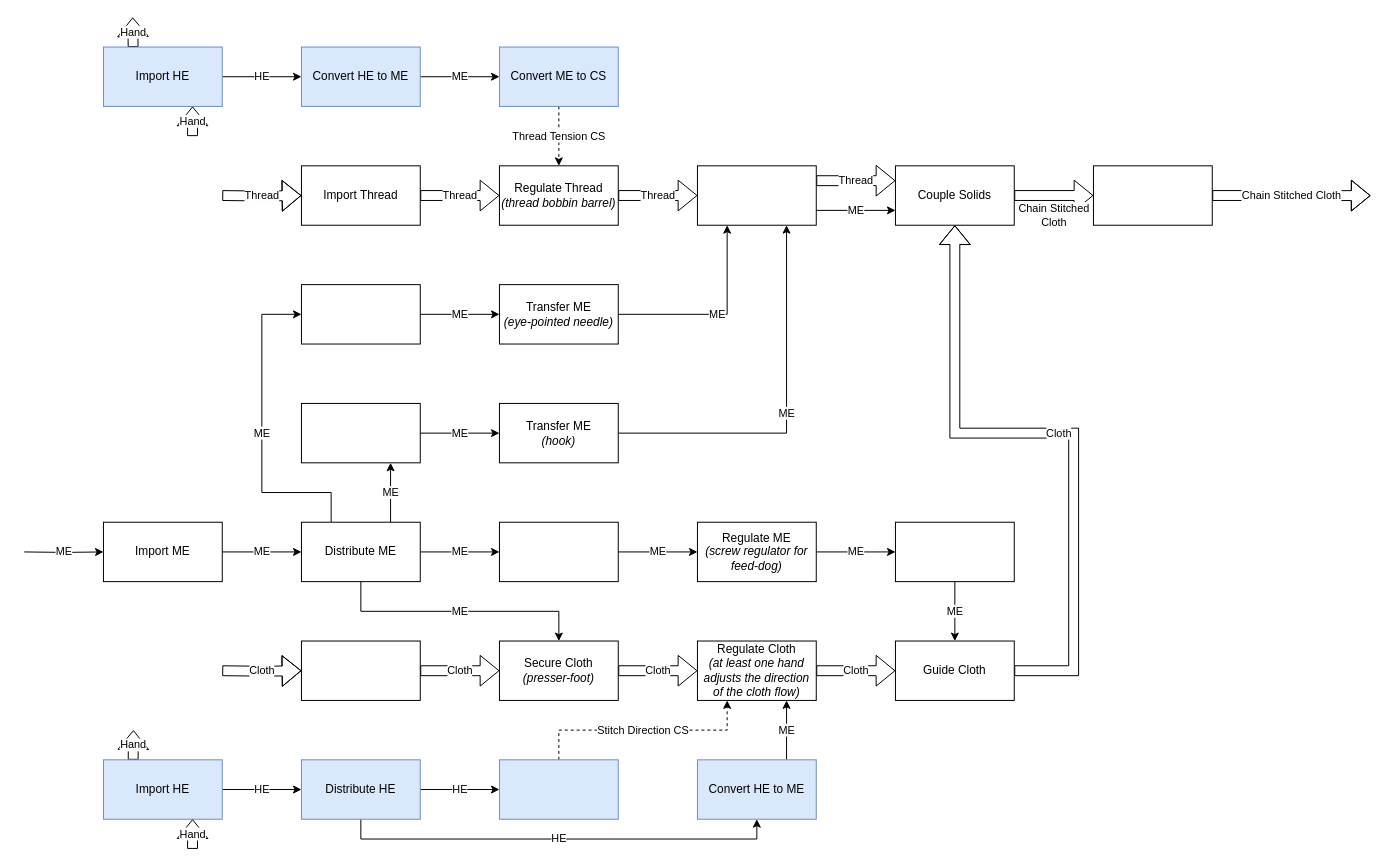
Some shapes in this 1388 by 865 pixel diagram are drawn without their labels. The box of each missing label's shape, as (x1, y1, x2, y2) in pixels:
Change ME (feed-dog timing eccentric): (498, 521, 618, 582)
Change ME (hook timing eccentric): (300, 402, 420, 463)
Change ME (needle driver eccentric): (300, 284, 420, 344)
Convert HE to CS: (498, 759, 618, 819)
Export Solid: (1092, 165, 1212, 225)
Guide Thread (needle goes through loop stored on hook): (696, 165, 816, 225)
Import Cloth: (300, 640, 420, 700)
Transfer ME (needle surrounding feed-dog): (894, 521, 1014, 582)
